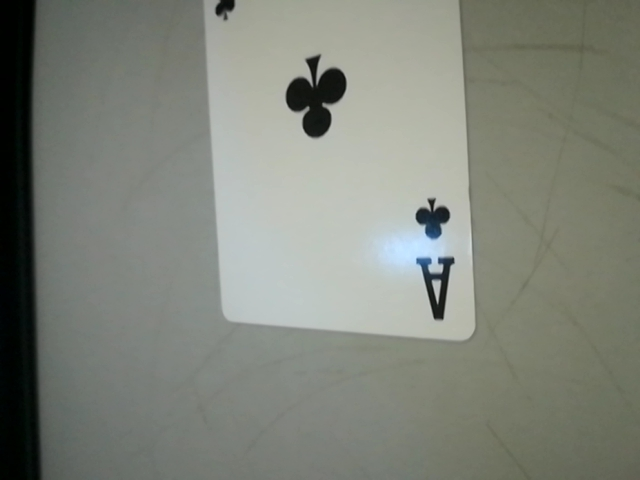mh a: (398, 179, 466, 340)
